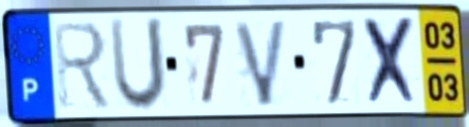7: (309, 16, 359, 107), (180, 20, 227, 108)
R: (51, 19, 116, 113)
U: (107, 15, 169, 115)
V: (231, 16, 291, 110)
X: (360, 14, 423, 109)
